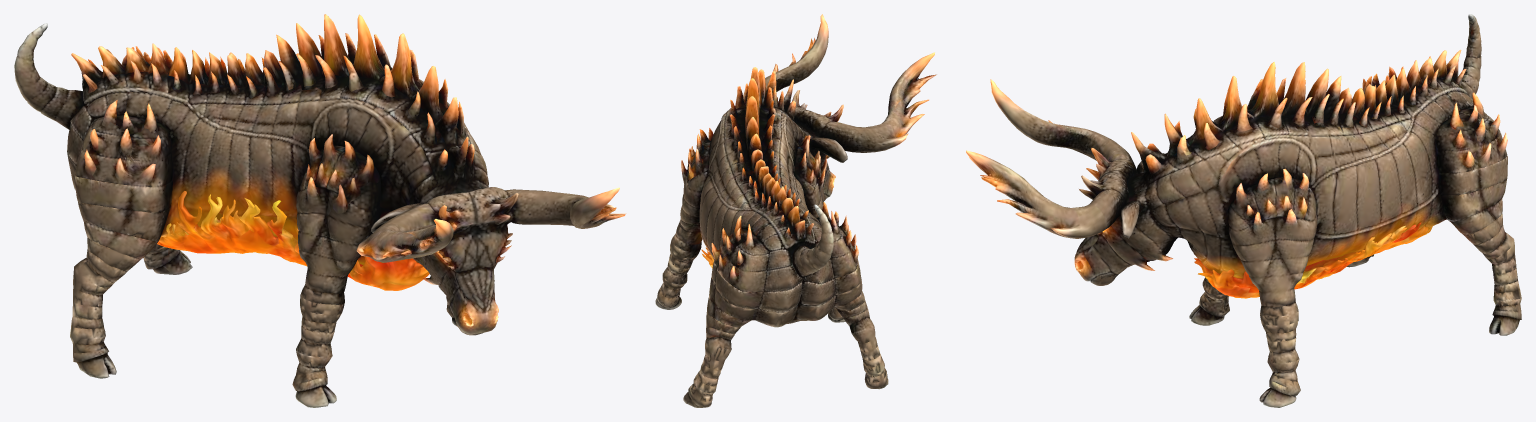
File: MZ4250 - Brazen Gorgon 2025.glb
The picture shows the model from 3 angles, left to right: view 1: azimuth 30°, elevation 25°; view 2: azimuth 150°, elevation 25°; view 3: azimuth 270°, elevation 25°; orthographic projection. The views are drawn at different scales.
Parts seen in each view (by area): view 1: ORGANIC BASE SPHERE.001; view 2: ORGANIC BASE SPHERE.001; view 3: ORGANIC BASE SPHERE.001.
Part boxes in pixels (x1=…): ORGANIC BASE SPHERE.001: x1=14, y1=14, x2=626, y2=407; ORGANIC BASE SPHERE.001: x1=655, y1=14, x2=936, y2=407; ORGANIC BASE SPHERE.001: x1=966, y1=14, x2=1521, y2=407.
Size of the model in its own units: 122 by 108 by 186.
2 materials, 2 textured.
